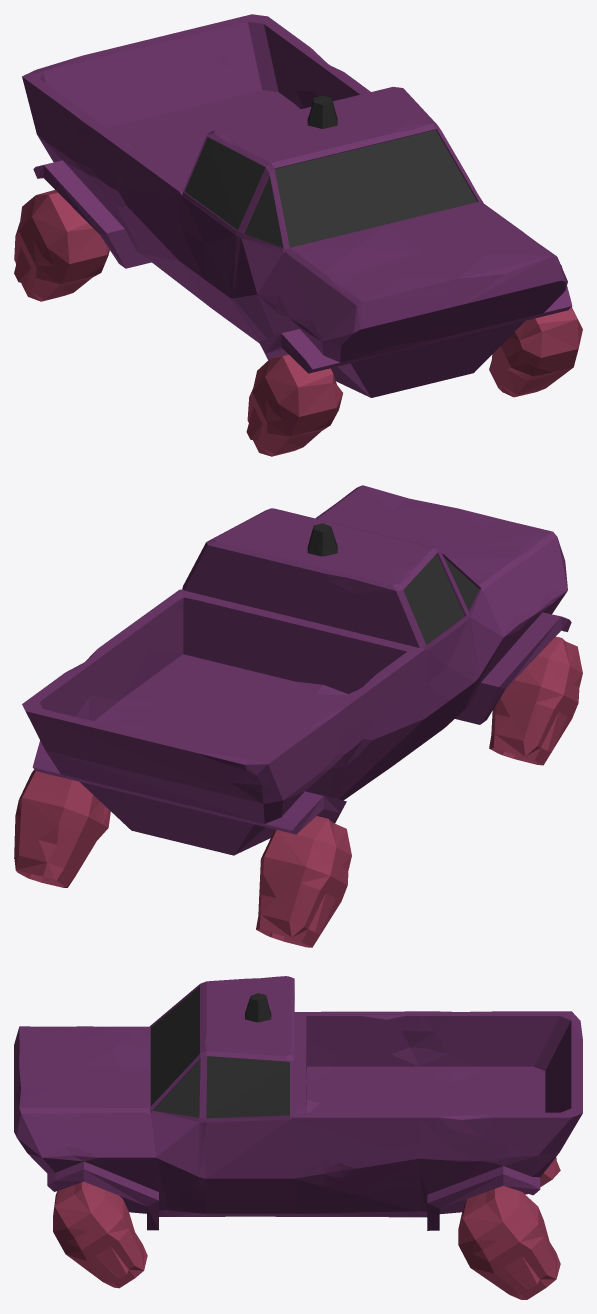
Rendered from T-Ruck_shaded.fbx.
3 renders of one model, top to bottom at view 1: azimuth 30°, elevation 25°; view 2: azimuth 150°, elevation 25°; view 3: azimuth 270°, elevation 25°, orthographic. The views are drawn at different scales.
Parts seen in each view (by area): view 1: T_Ruck, Hover_Engine, Hover_Engine3, Hover_Engine2, Turret_Mount; view 2: T_Ruck, Hover_Engine, Hover_Engine1, Hover_Engine3, Turret_Mount; view 3: T_Ruck, Hover_Engine1, Hover_Engine2, Turret_Mount.
Part boxes in pixels (x1=…): T_Ruck: x1=22, y1=14, x2=572, y2=397; Hover_Engine: x1=14, y1=190, x2=109, y2=301; Hover_Engine3: x1=246, y1=353, x2=342, y2=456; Hover_Engine2: x1=489, y1=307, x2=582, y2=397; Turret_Mount: x1=307, y1=95, x2=337, y2=128; T_Ruck: x1=22, y1=485, x2=571, y2=855; Hover_Engine: x1=256, y1=816, x2=351, y2=947; Hover_Engine1: x1=14, y1=769, x2=110, y2=887; Hover_Engine3: x1=489, y1=636, x2=582, y2=765; Turret_Mount: x1=307, y1=523, x2=337, y2=556; T_Ruck: x1=14, y1=976, x2=582, y2=1230; Hover_Engine1: x1=458, y1=1186, x2=560, y2=1299; Hover_Engine2: x1=53, y1=1181, x2=147, y2=1288; Turret_Mount: x1=245, y1=993, x2=271, y2=1022.
Bounding box in the file's own units: 497 × 424 × 890.
